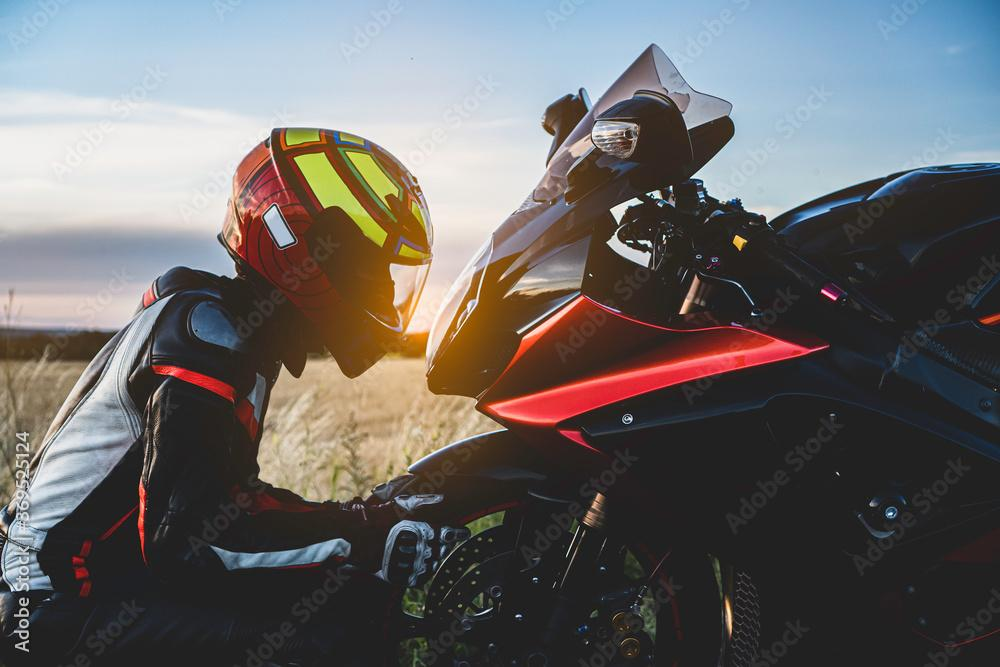helmet: (216, 125, 435, 380)
